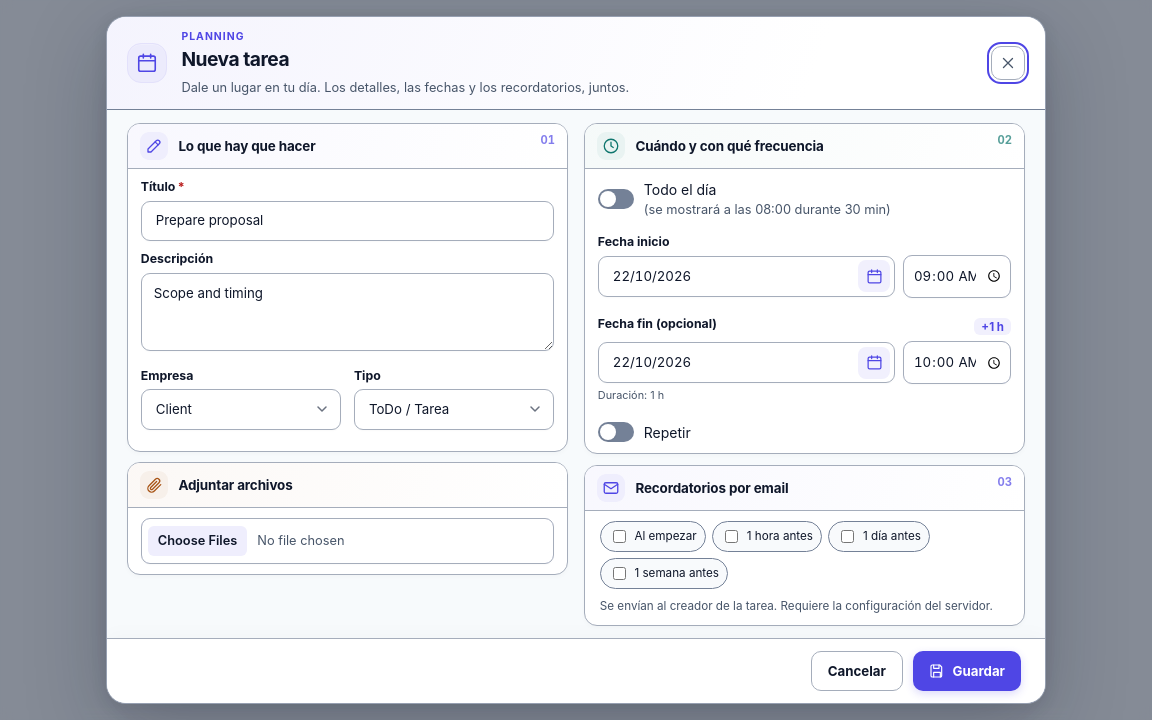
Test: planning form layout preserves native form behavior › retains the all-day and recurrence controls inside their new sections
Click the switch next to "Todo el día": (616, 199) [598,189,634,209]
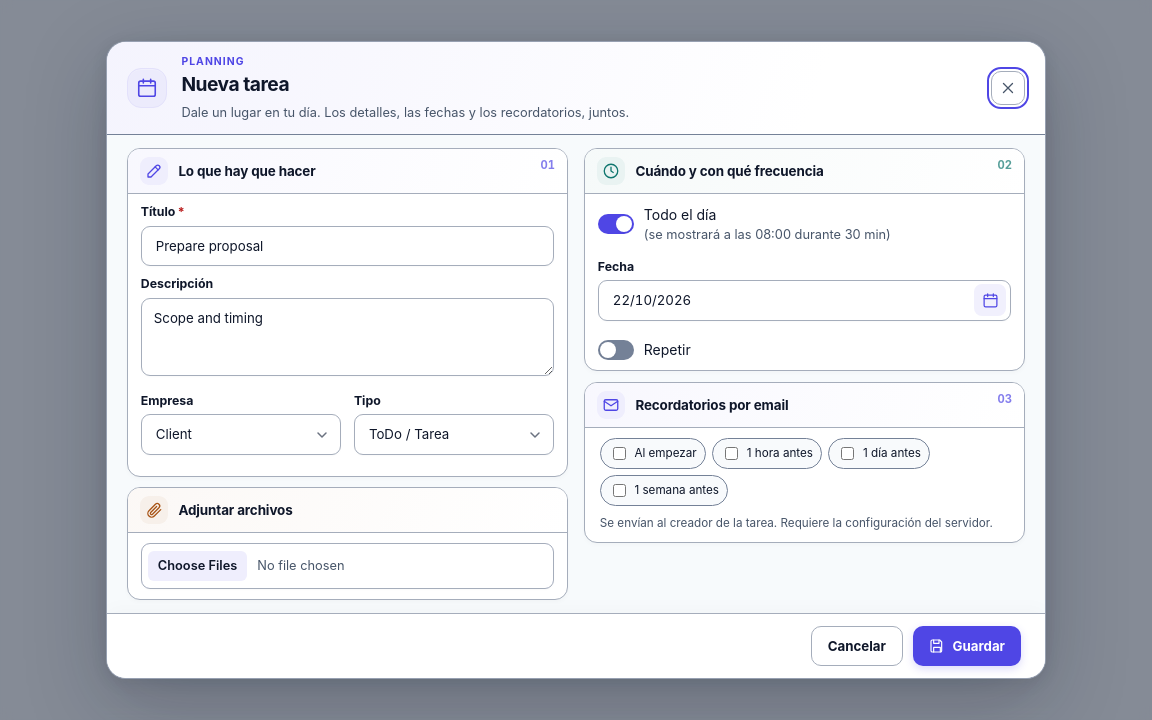
Result: the field with id "task-date" holds "22/10/2026" at [598,280,1011,321]
Click the switch next to "Repetir": (616, 350) [598,340,634,360]
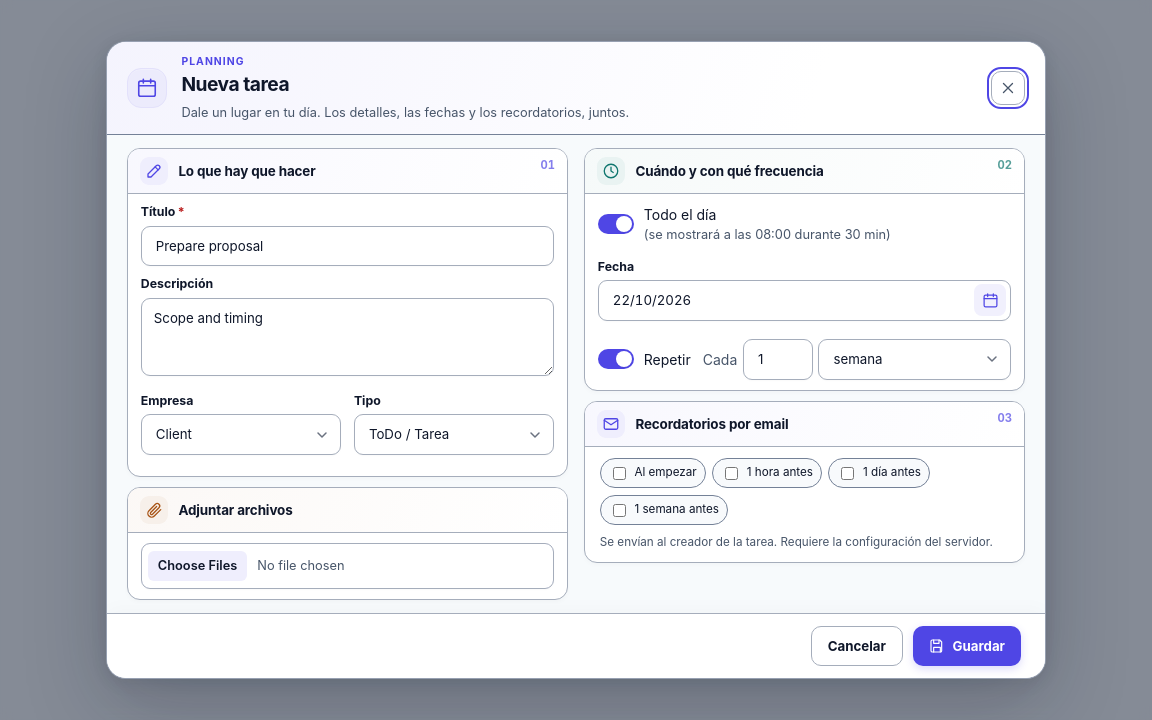
Result: the number field named "Cada" is shown at [743,339,813,380]
